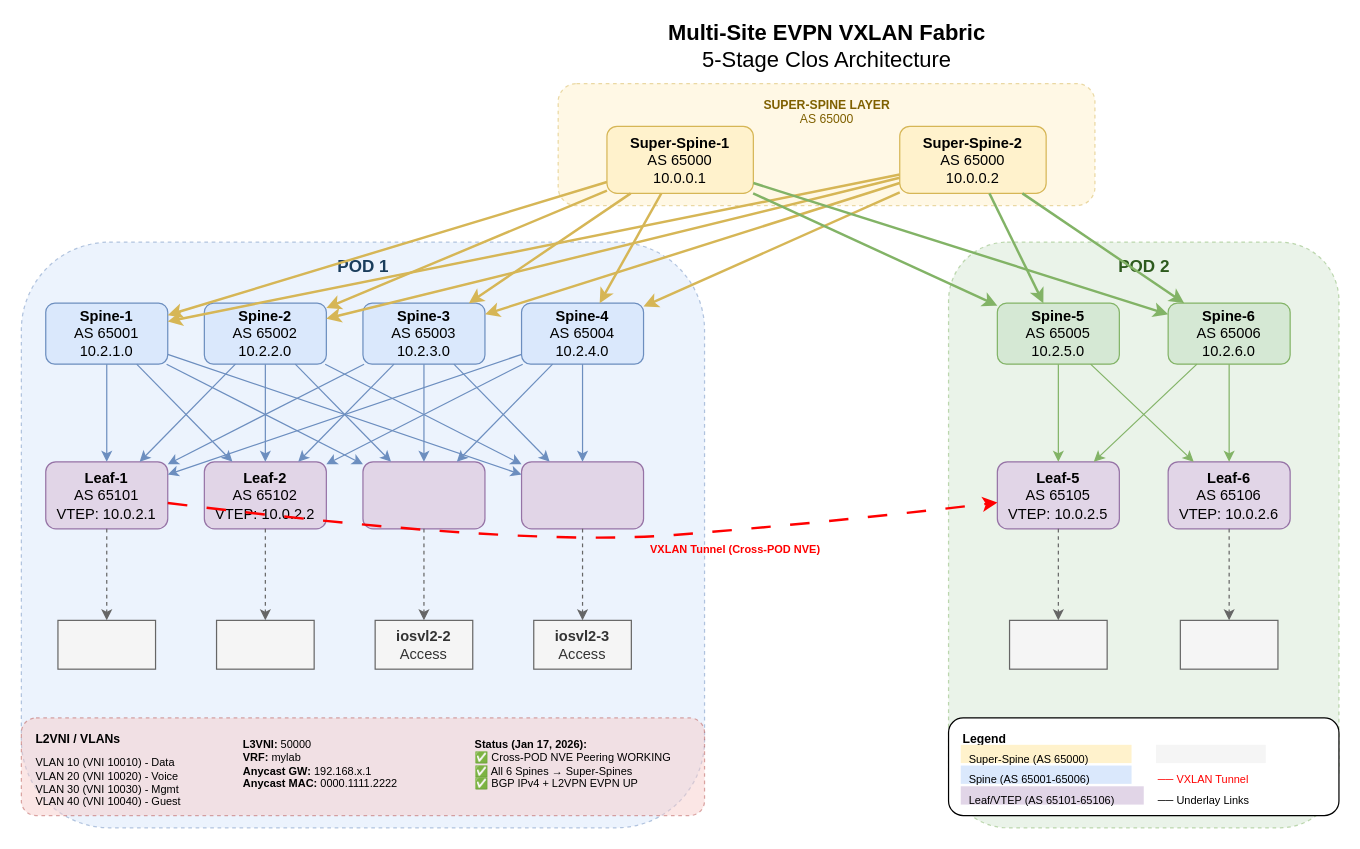
The diagram is 1360 pixels wide and 849 high, and some of its shapes have lost their labels. Here are the shapes that lost their labels. From the top down, the box of each, then its label:
(362, 461, 485, 529): Leaf-3 AS 65103 VTEP: 10.0.2.3
(520, 461, 644, 529): Leaf-4 AS 65104 VTEP: 10.0.2.4
(57, 619, 156, 669): iosvl2-0 Access
(215, 619, 314, 669): iosvl2-1 Access
(1008, 619, 1107, 669): iosvl2-4 Access
(1179, 619, 1278, 669): iosvl2-5 Access
(1155, 744, 1265, 762): IOSvL2 Access
